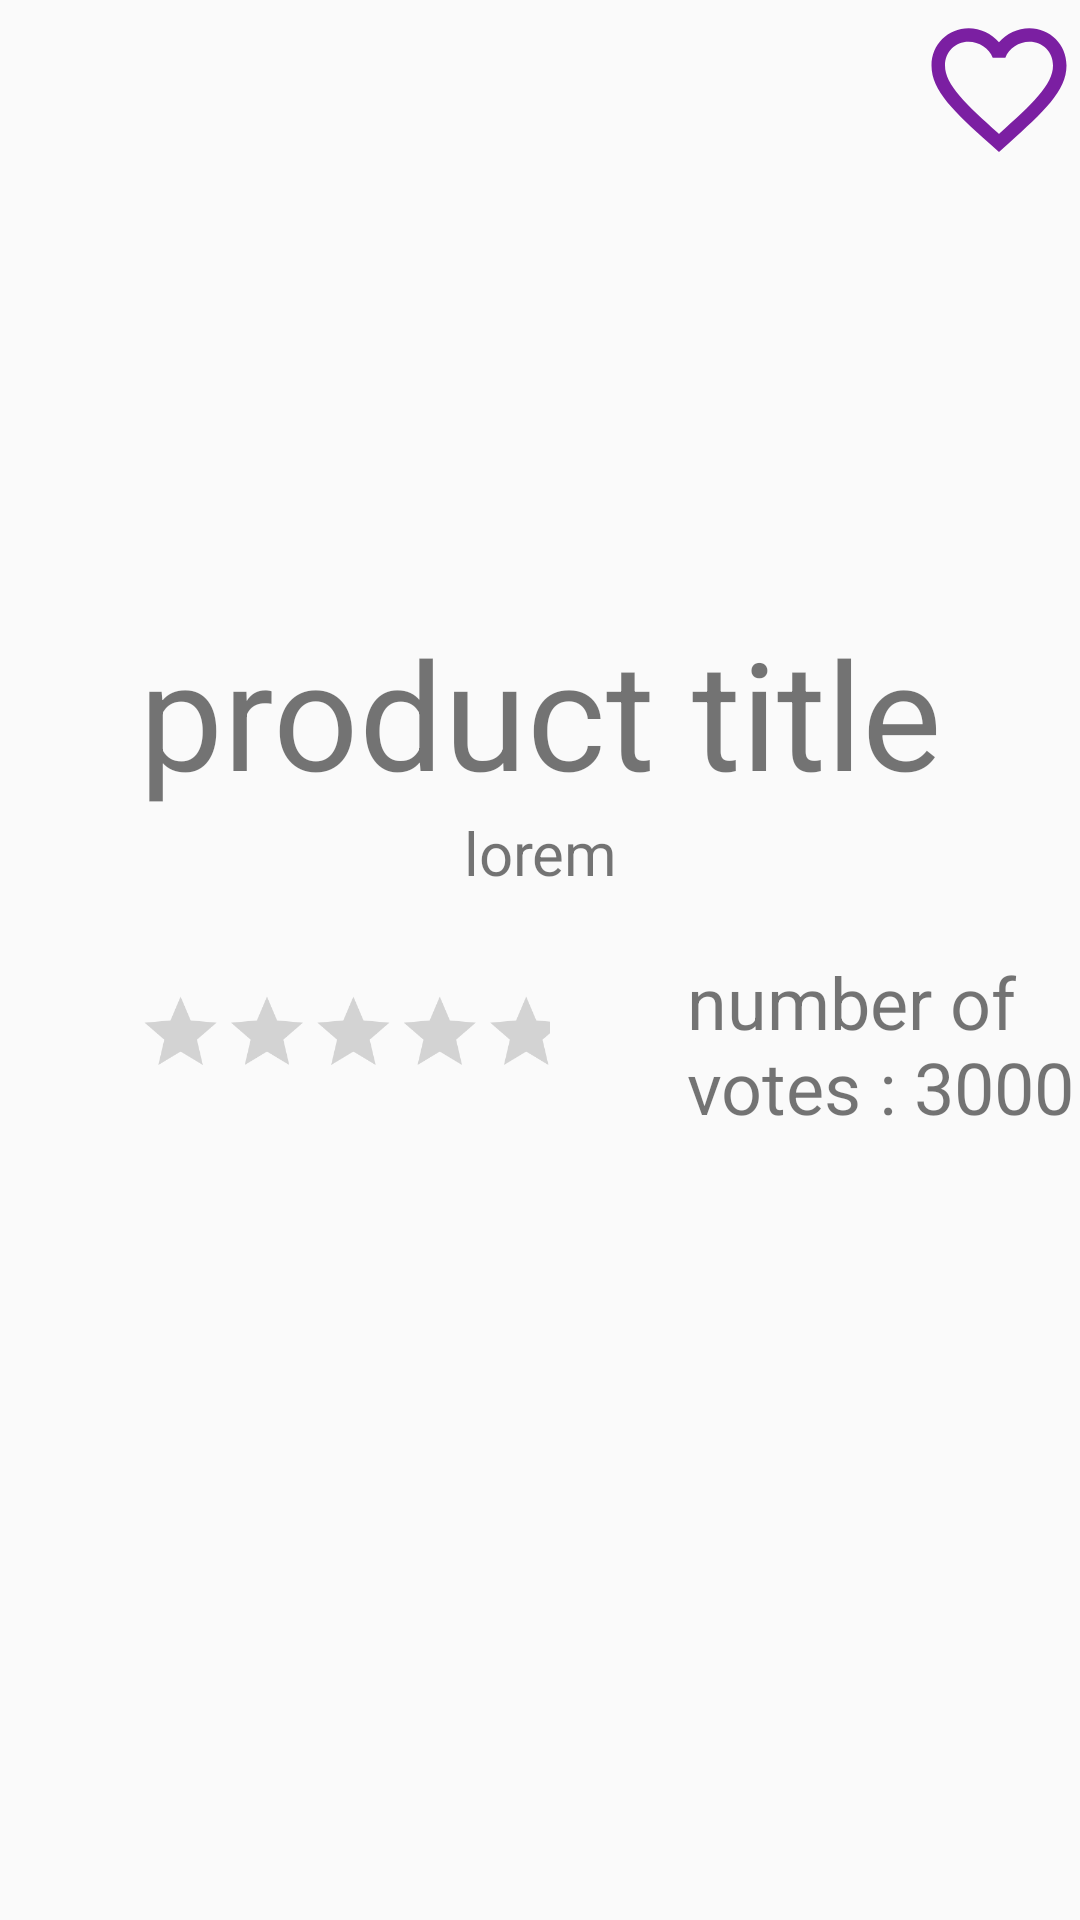

Icon click points for this 1080x1920 phone screenshot, format (x=x, y=y):
favorite border: (x=999, y=90)
